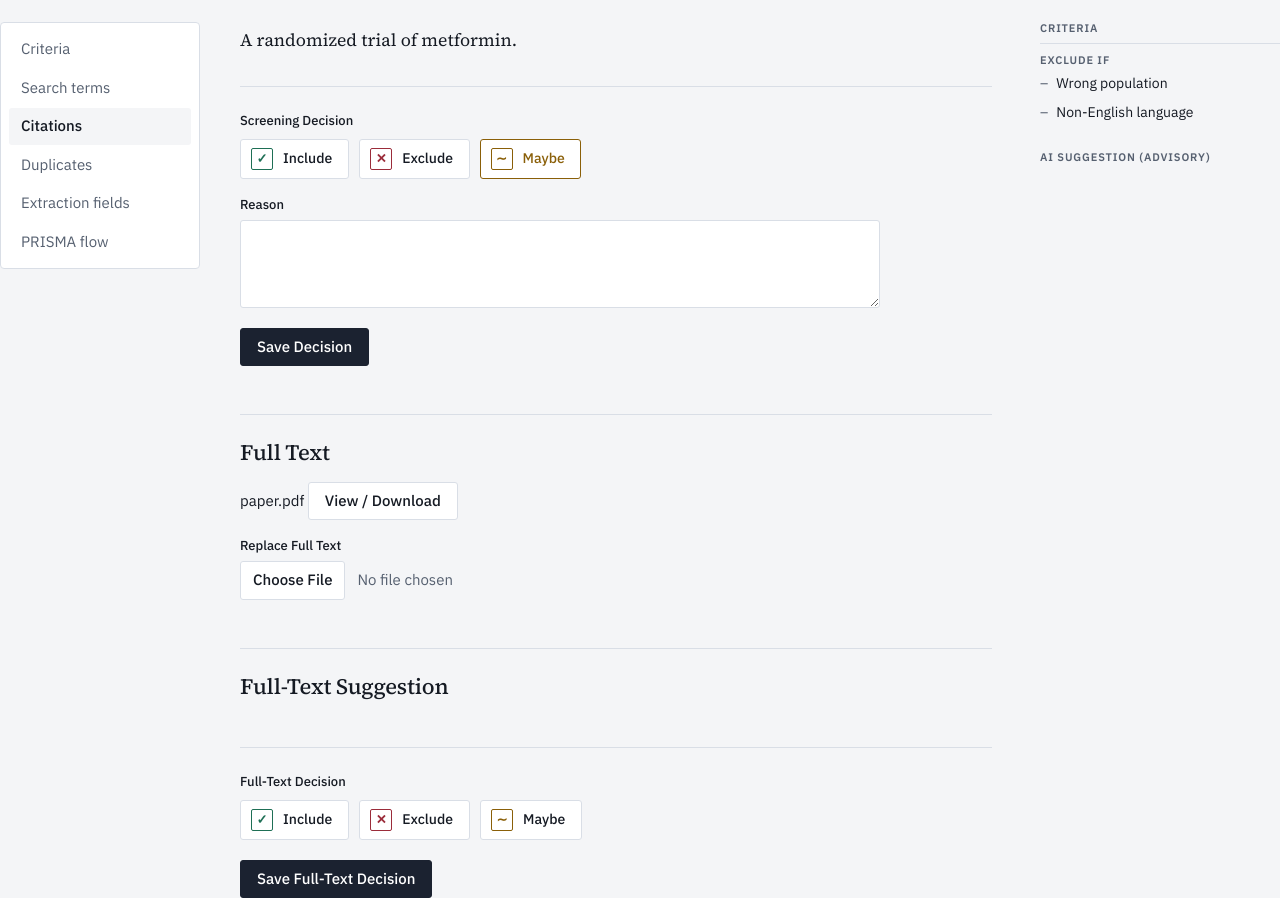
Test case: CitationScreeningPage › records a Full-Text Decision once a Full Text is attached
(page scrolled)
Click the 2nd radio button labelled "include": {"x": 295, "y": 820} x1=240 y1=800 x2=349 y2=840
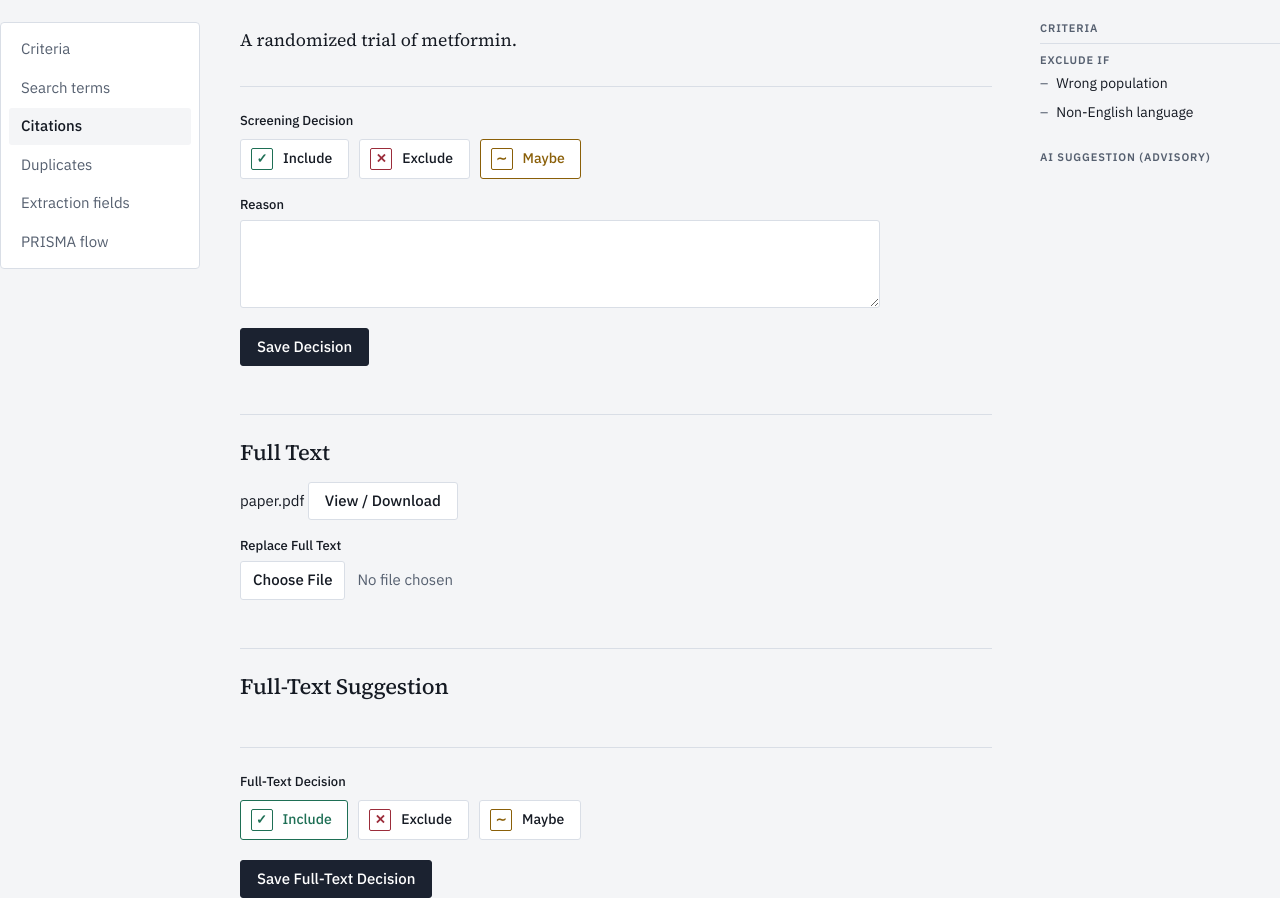
Click the button "Save Full-Text Decision": {"x": 336, "y": 879} x1=240 y1=860 x2=432 y2=897
(page scrolled)
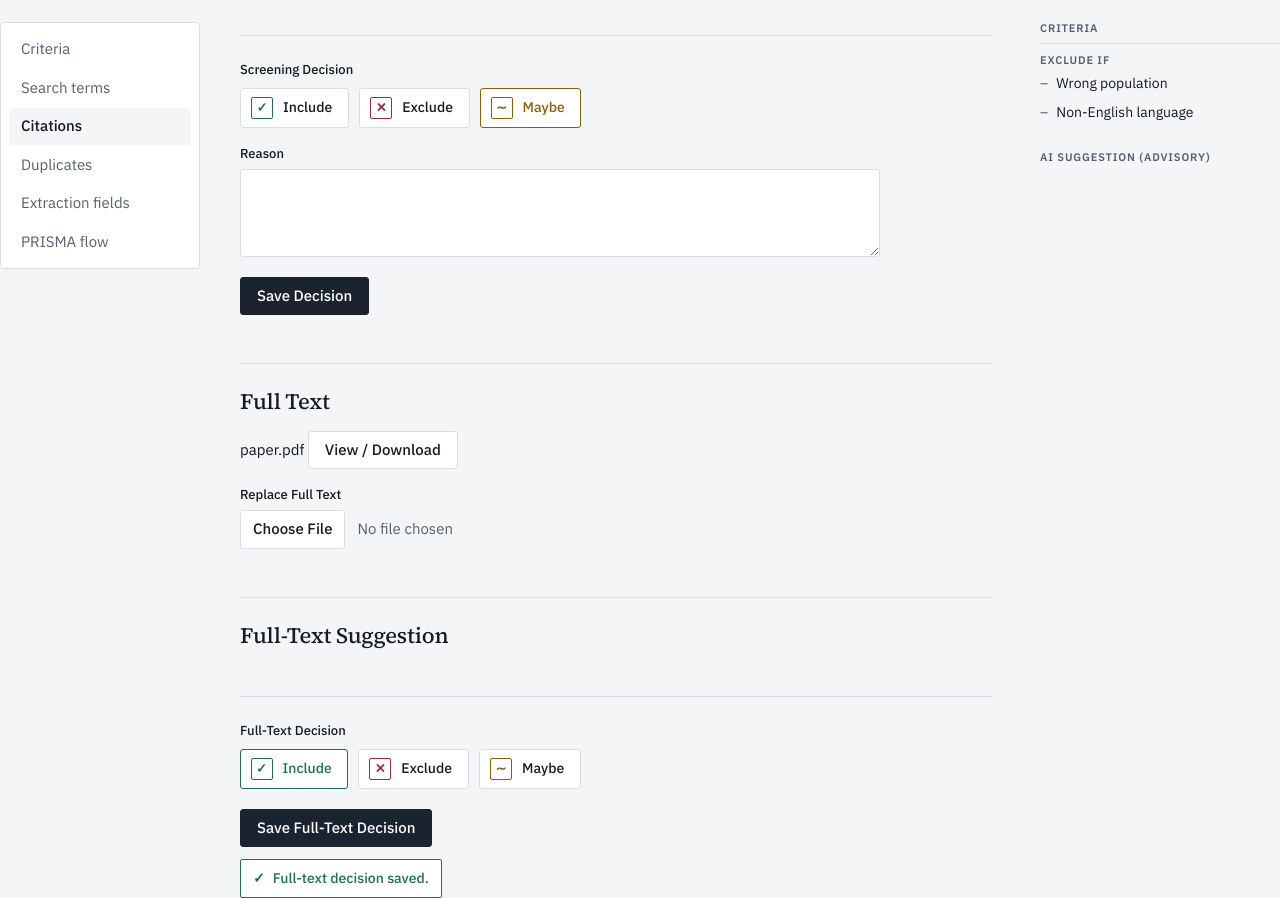
expect the text "Full-text decision saved." is shown: met, box x1=240 y1=859 x2=442 y2=897
